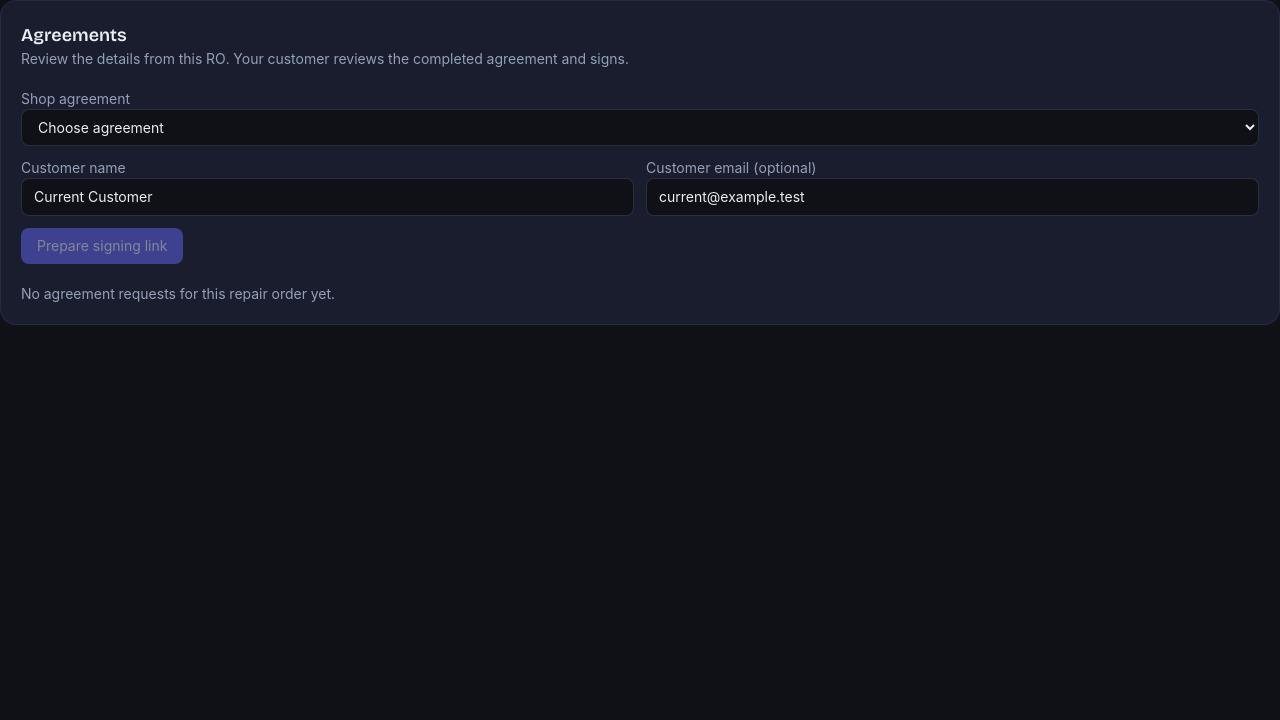
Test: shop agreement controls › prepares a link for the current repair order and clearly reports that it was not sent
The image size is (1280, 720).
Select "Liability agreement" in the dropdown labelled "Shop agreement". click: (640, 128)
box: [21, 109, 1259, 146]
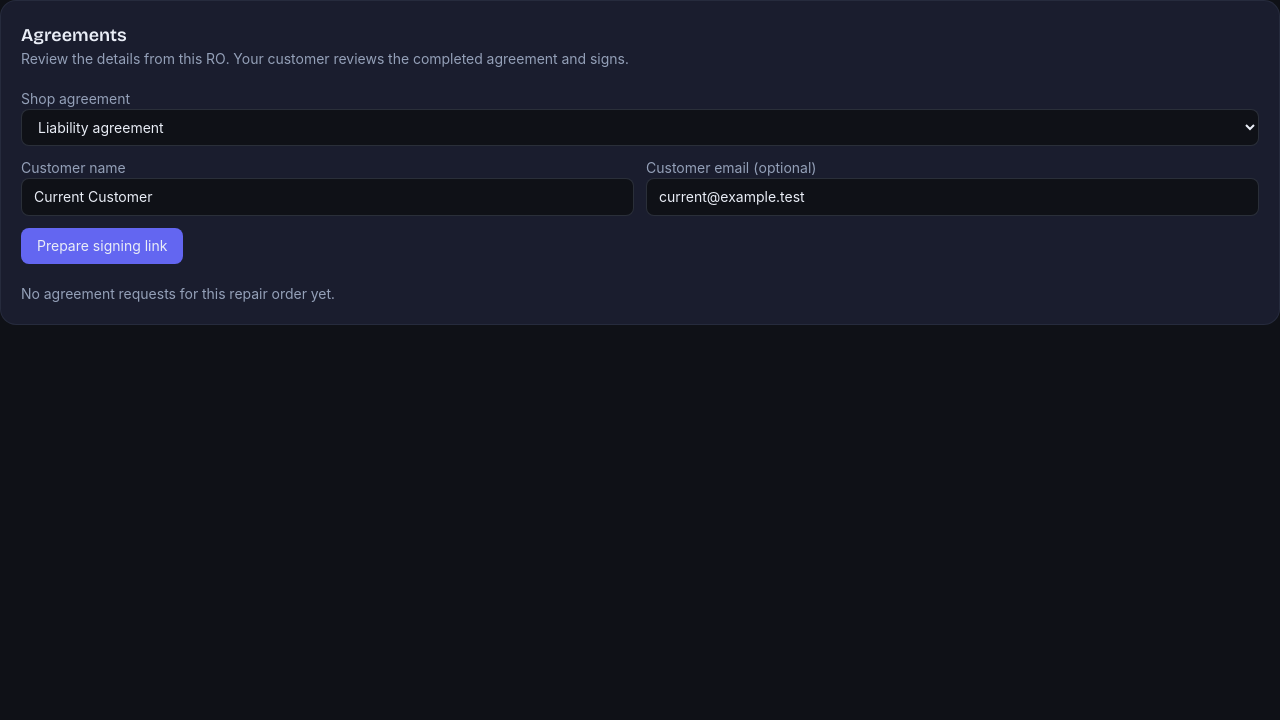
Submit the form "Prepare signing link", box [21, 89, 1259, 264]
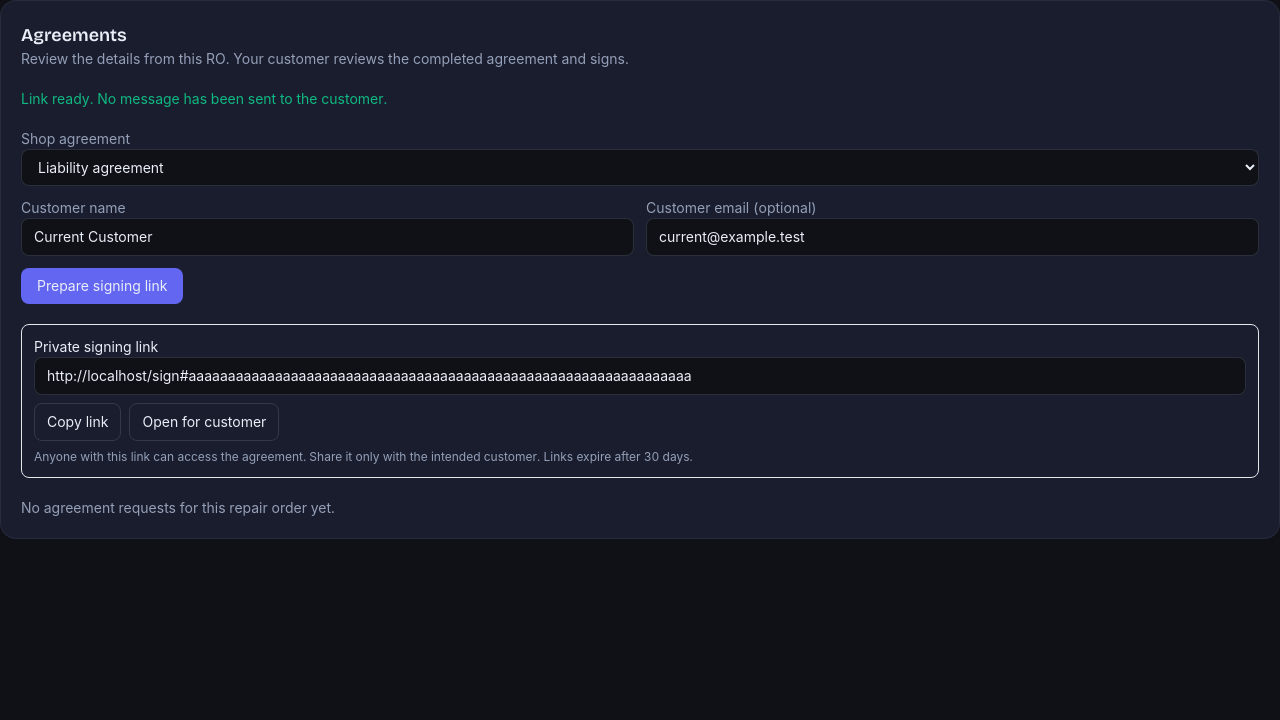
Now the text "Link ready. No message has been sent to the customer." is shown, box [21, 90, 387, 107]
